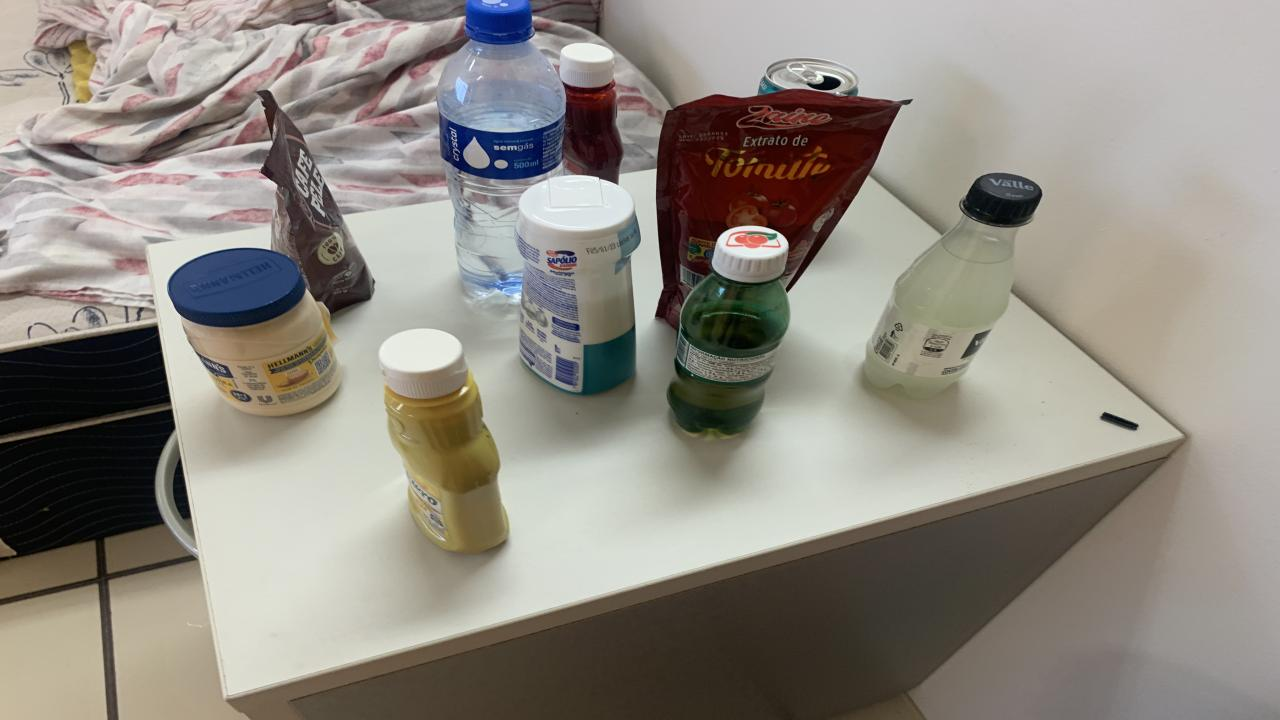Cleaner-Cleanup_Items: (515, 174, 640, 394)
Coffee-Pantry_Items: (258, 90, 372, 311)
Guarana-Drinks: (668, 225, 790, 435)
Ketchup-Pantry_Items: (558, 43, 622, 184)
Mayonnaise-Pantry_Items: (168, 248, 340, 416)
Mustard-Pantry_Items: (380, 328, 510, 553)
Soda-Drinks: (865, 172, 1042, 398)
Tomato_Sauce-Pantry_Items: (658, 88, 908, 326)
Tonic-Drinks: (758, 58, 858, 96)
Water_Bottle-Drinks: (438, 0, 565, 296)
